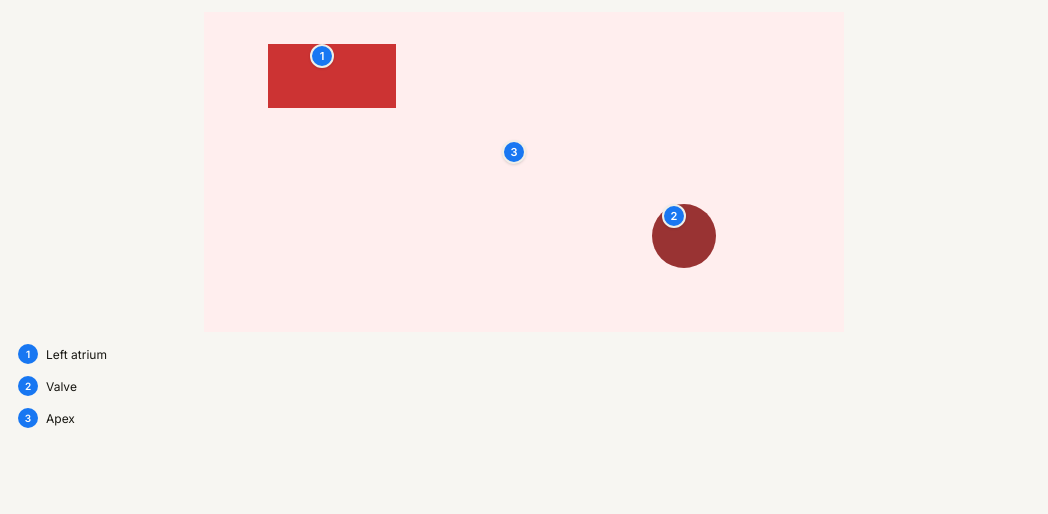
Test: illustration notes: popover › opens one note at a time and highlights its target with a class
Step 1. Click the button "1" → point(322, 56), box [310,44,334,68]
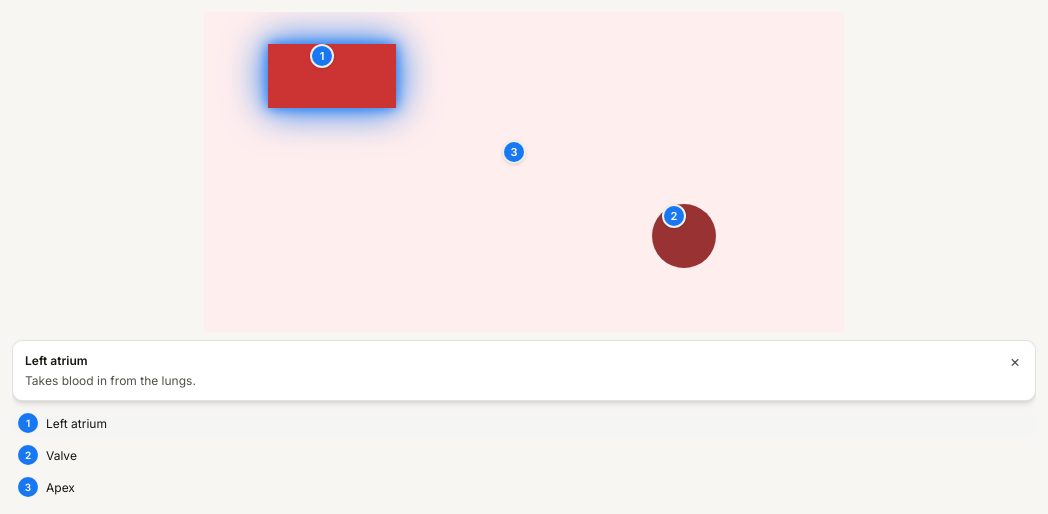
Expected: the element showing "Left atrium × Takes blood in from the lungs." is shown, [12,340,1036,401]
Step 2. Click the button "2" → point(674, 216), box [662,204,686,228]
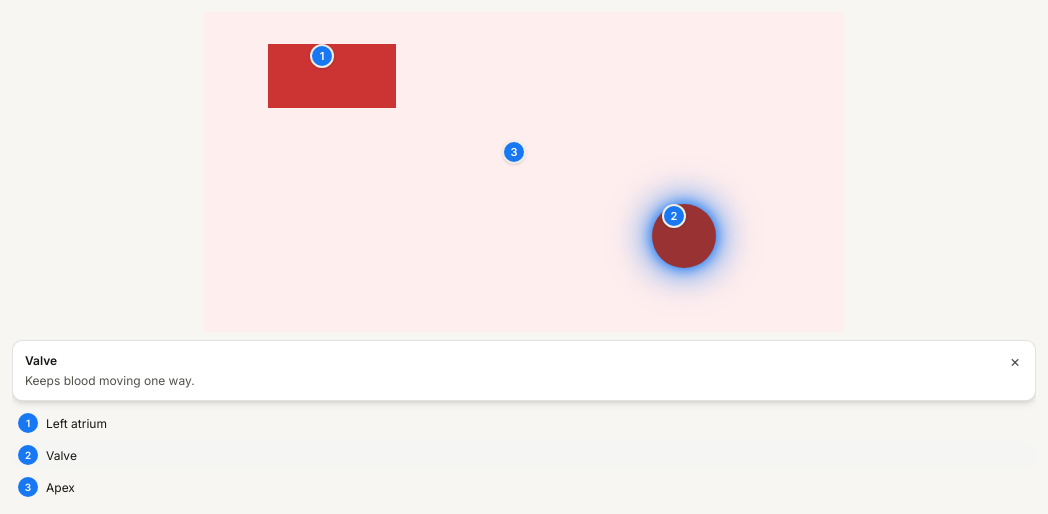
Expected: the element showing "Valve × Keeps blood moving one way." is shown, [12,340,1036,401]
